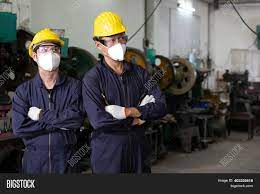Helmet: (90, 14, 126, 35), (28, 28, 61, 47)
Mask: (100, 43, 130, 62), (34, 54, 63, 73)
No-jacket: (82, 66, 156, 178), (13, 81, 78, 178)
